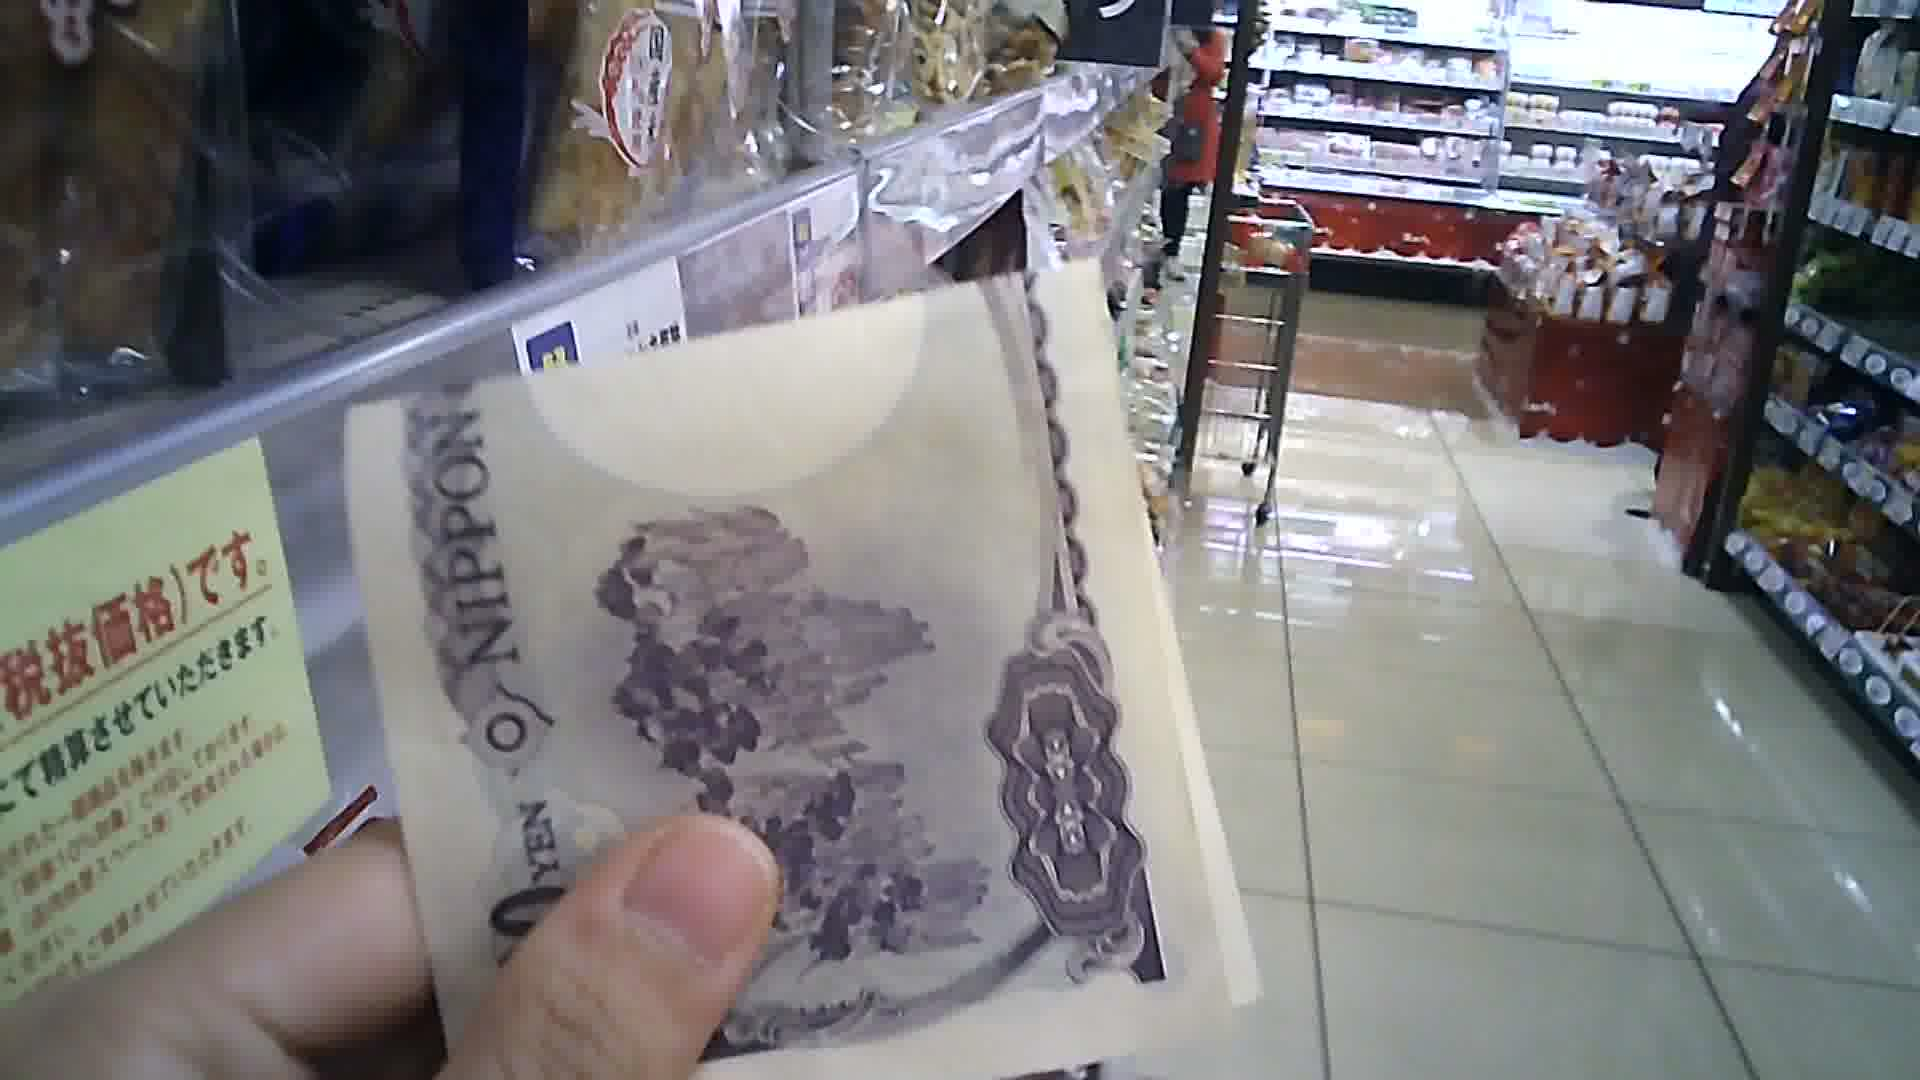5,000 Yen: (334, 258, 1244, 1079)
